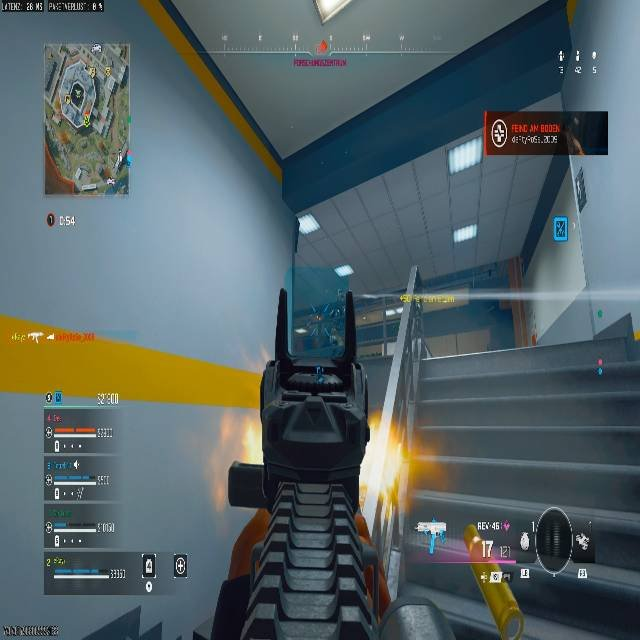player: (320, 323, 342, 358)
